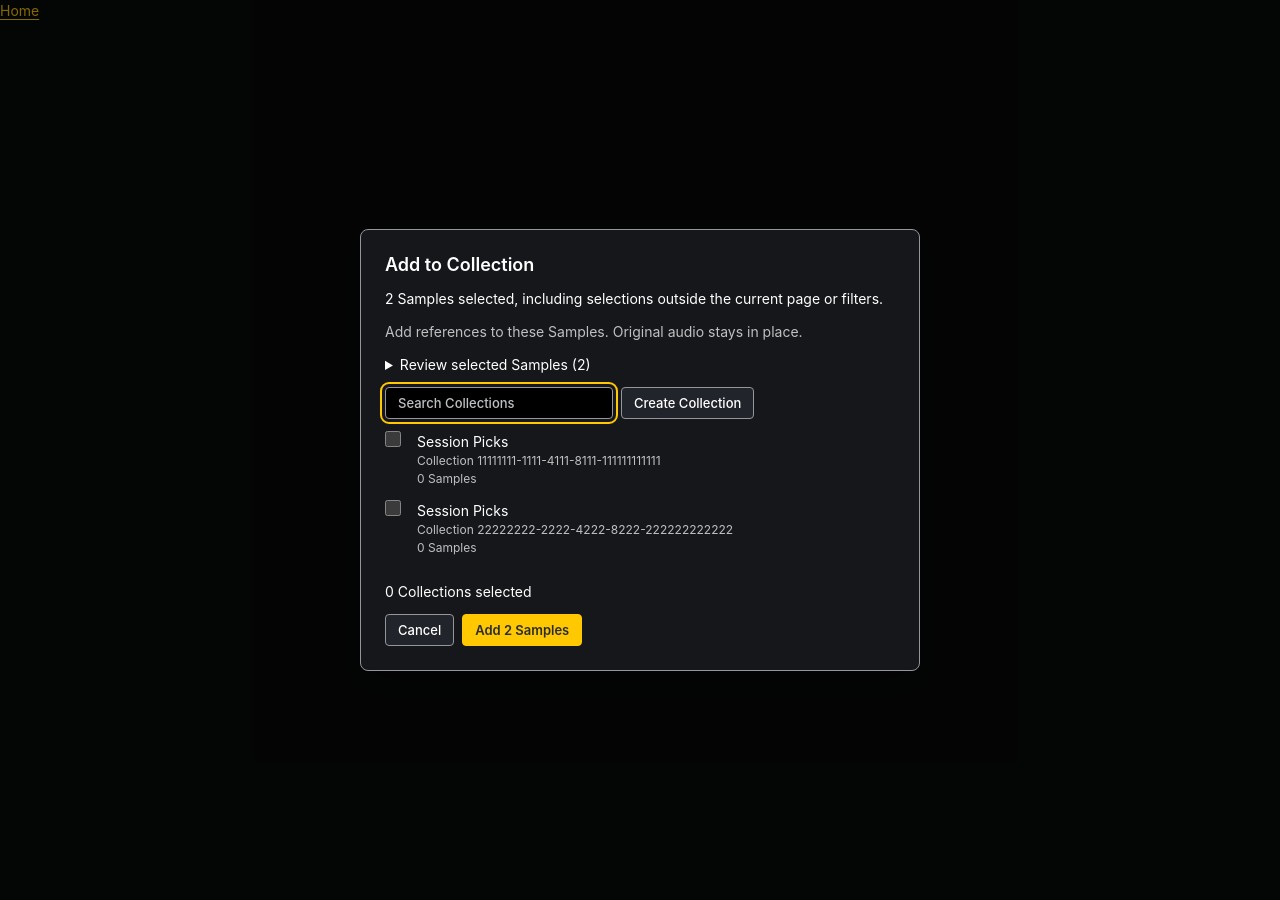
Test: checked Samples are reviewed in source order and independent pair failures retry without replaying successful references
Click the heading "Review selected Samples (2)" at (495, 365), box [400, 356, 591, 373]
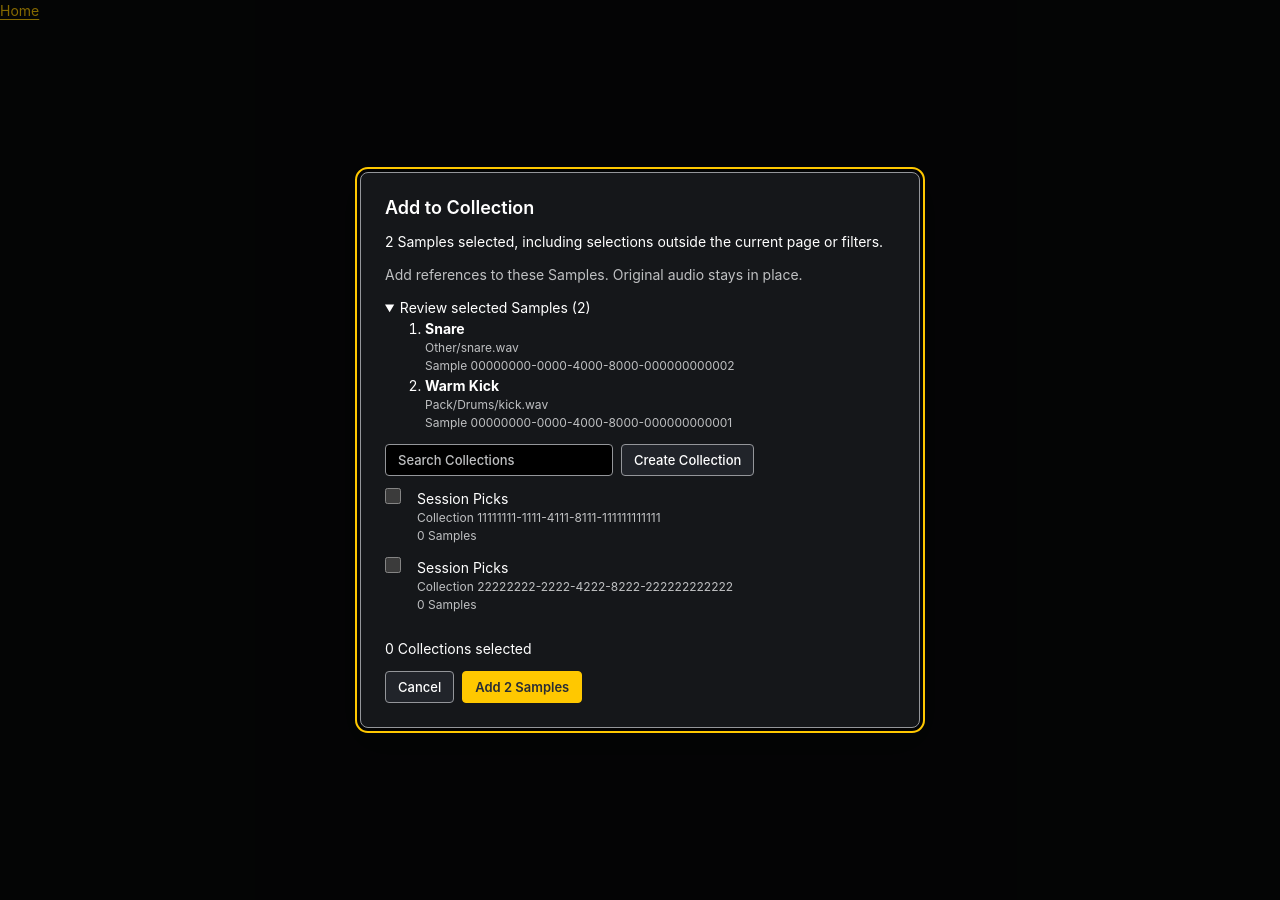
Check: the list named "Selected Samples" shows "Snare", box [425, 320, 465, 337]
Click the checkbox labelled "11111111-1111-4111-8111-111111111111" at (393, 496), box [385, 488, 401, 504]
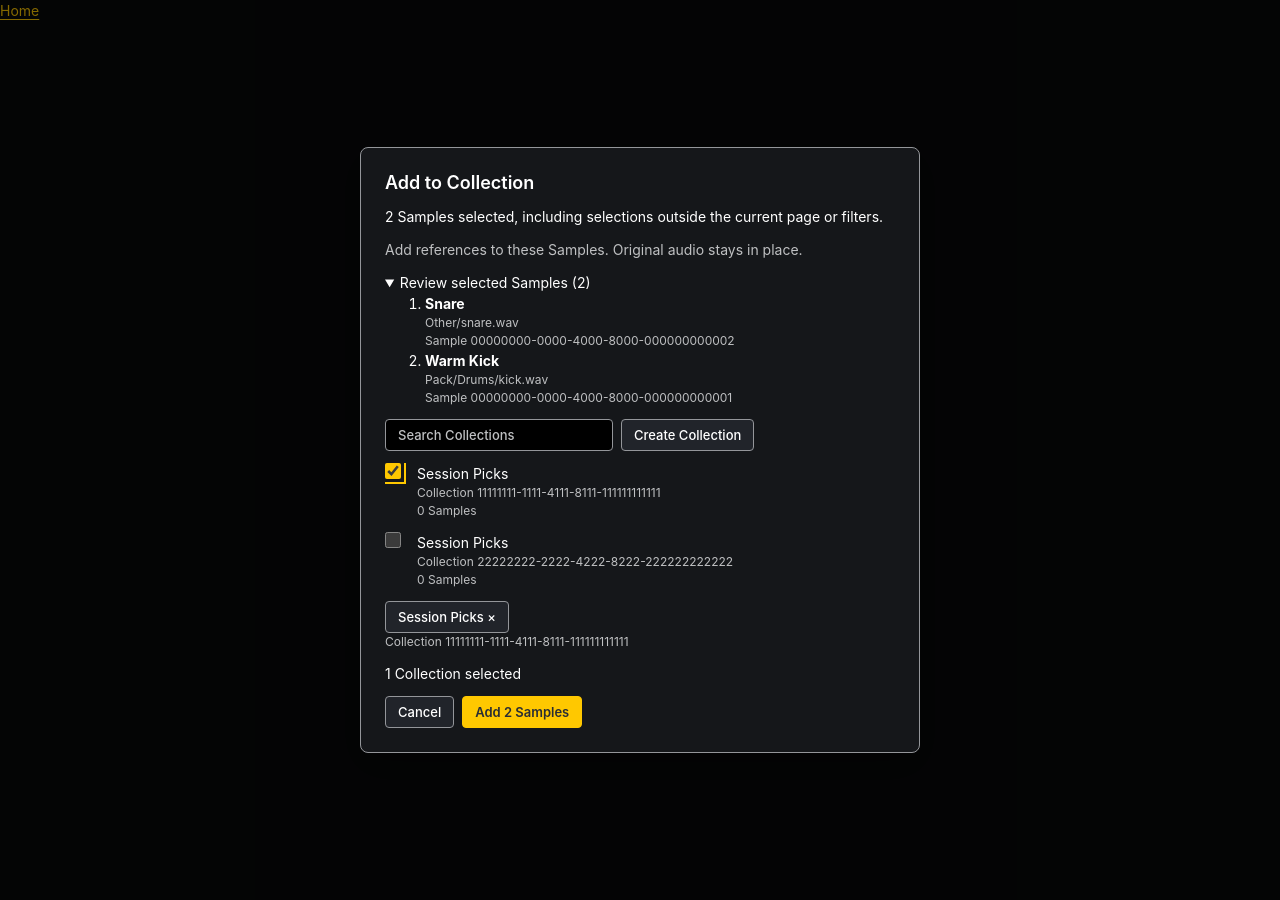
Click the checkbox labelled "22222222-2222-4222-8222-222222222222" at (393, 540), box [385, 532, 401, 548]
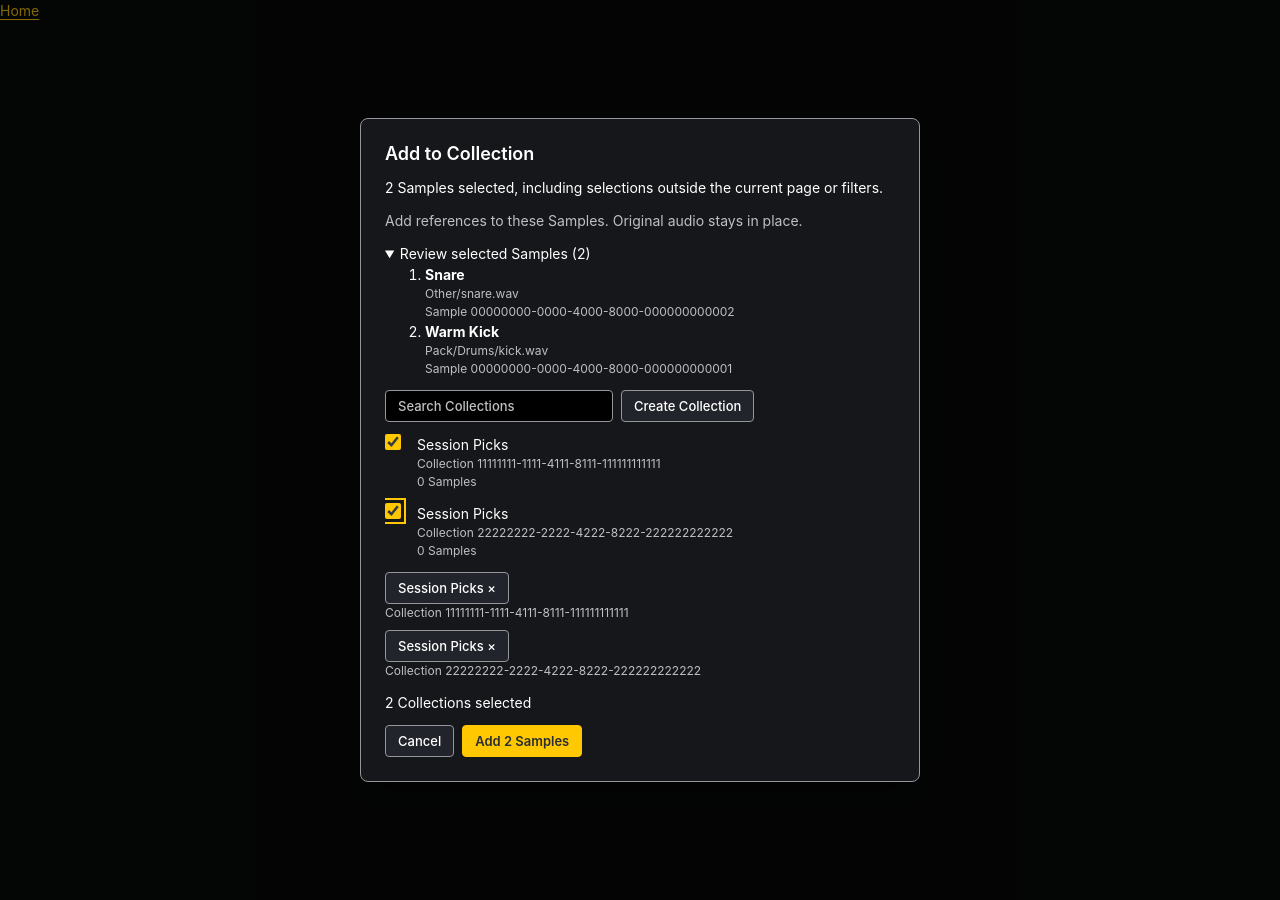
Click the button "Add 2 Samples" at (522, 741), box [462, 725, 582, 757]
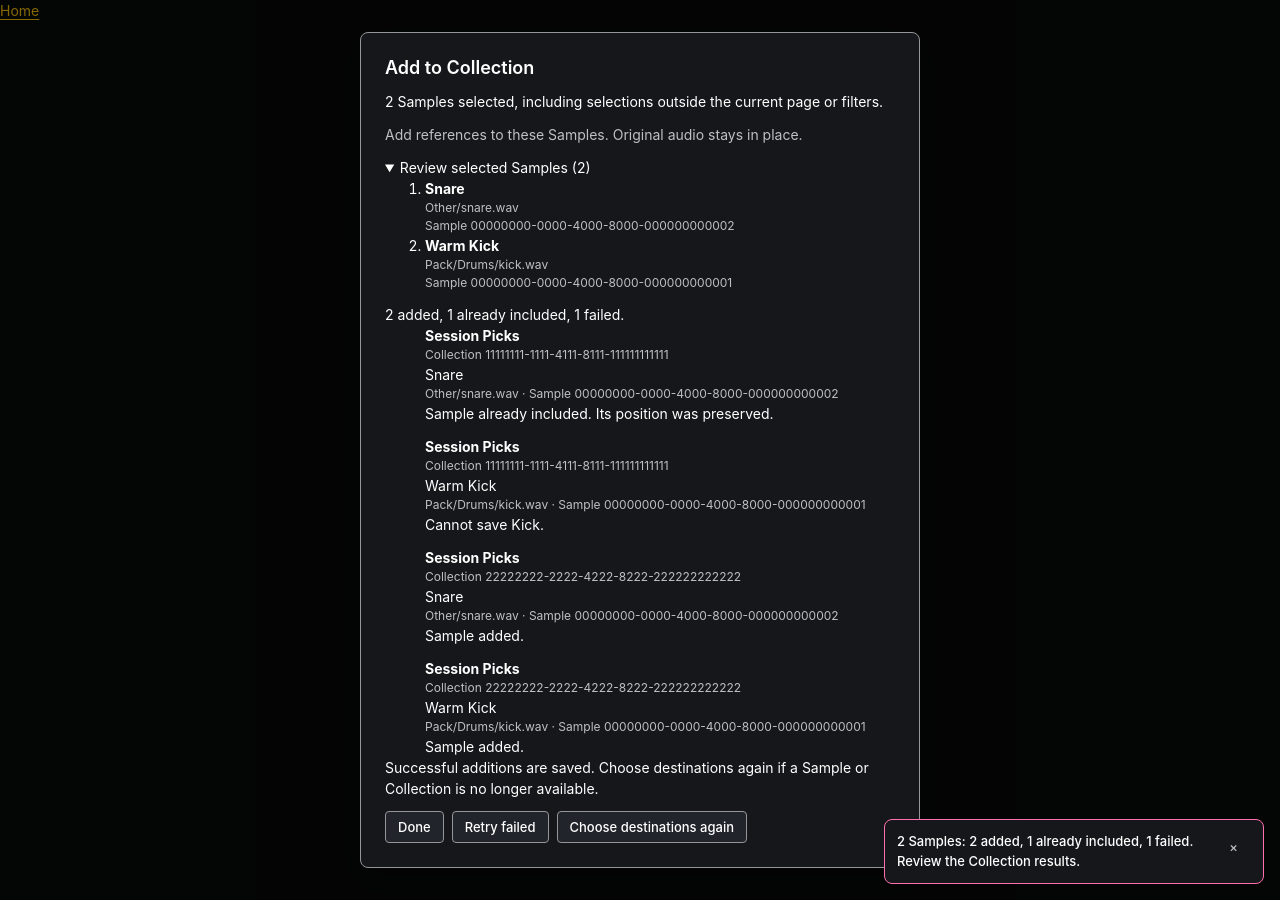
Check: the element named "Collection results" shows "2 added, 1 already included, 1 failed.", box [385, 304, 895, 799]
Check: the element named "Collection results" shows "Cannot save Kick.", box [425, 516, 544, 533]
Click the button "Retry failed" at (500, 827), box [452, 811, 548, 843]
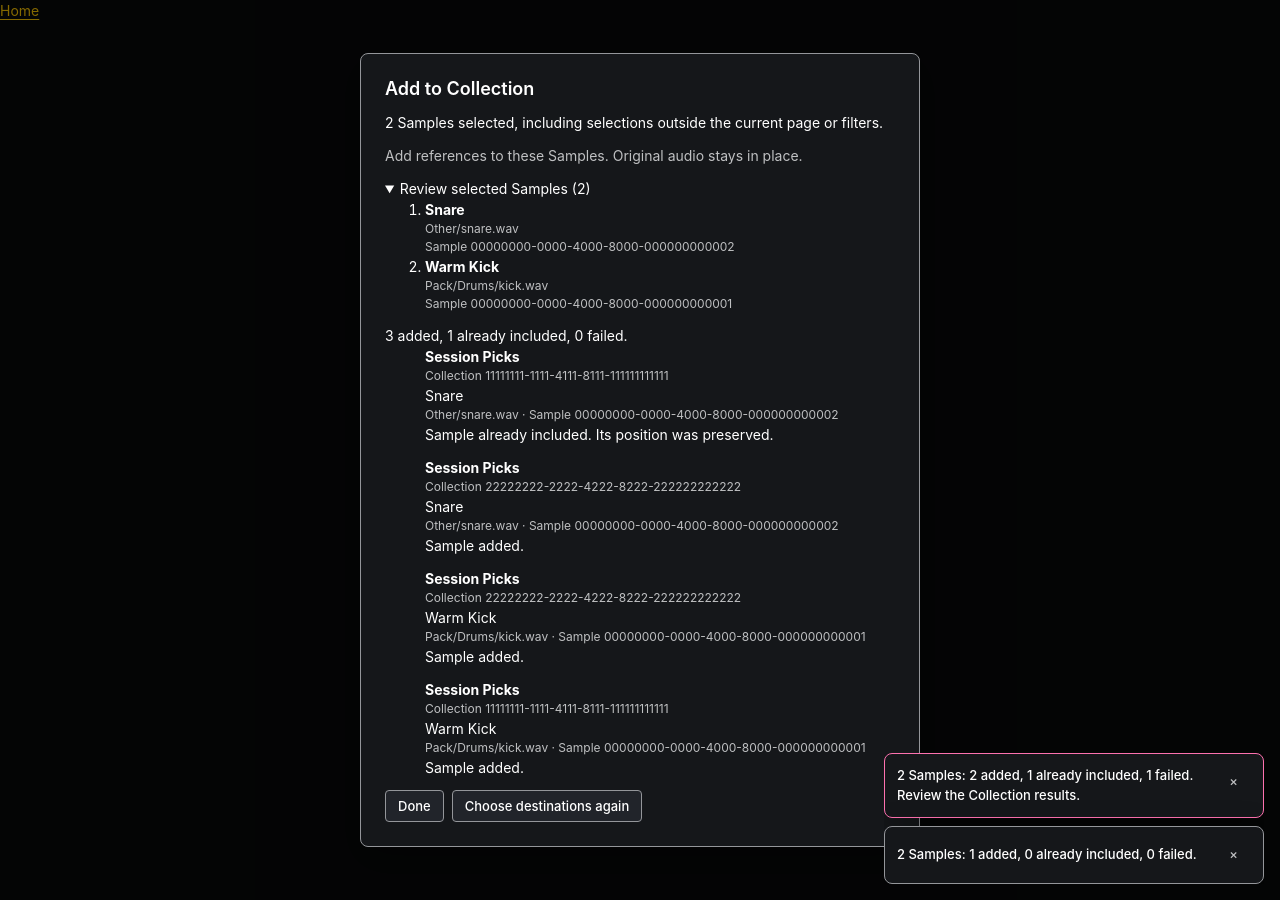
Check: the element named "Collection results" shows "3 added, 1 already included, 0 failed.", box [385, 325, 895, 778]
